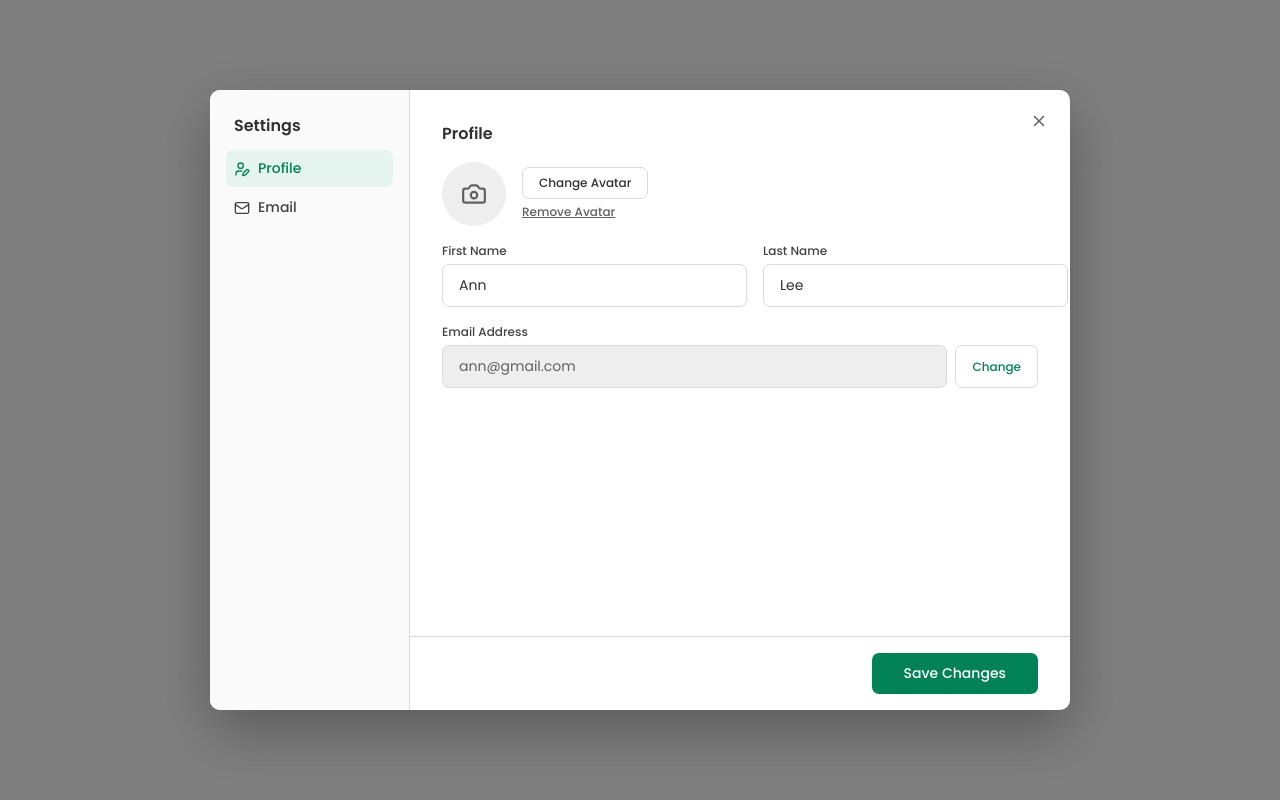
Settings — changing the login email › keeps the login email read-only and opens the change dialog from its button
Check: the field labelled "Email Address" holds "ann@gmail.com", box [442,345,948,388]
Click the button "Change": (997, 366) [956,345,1038,388]
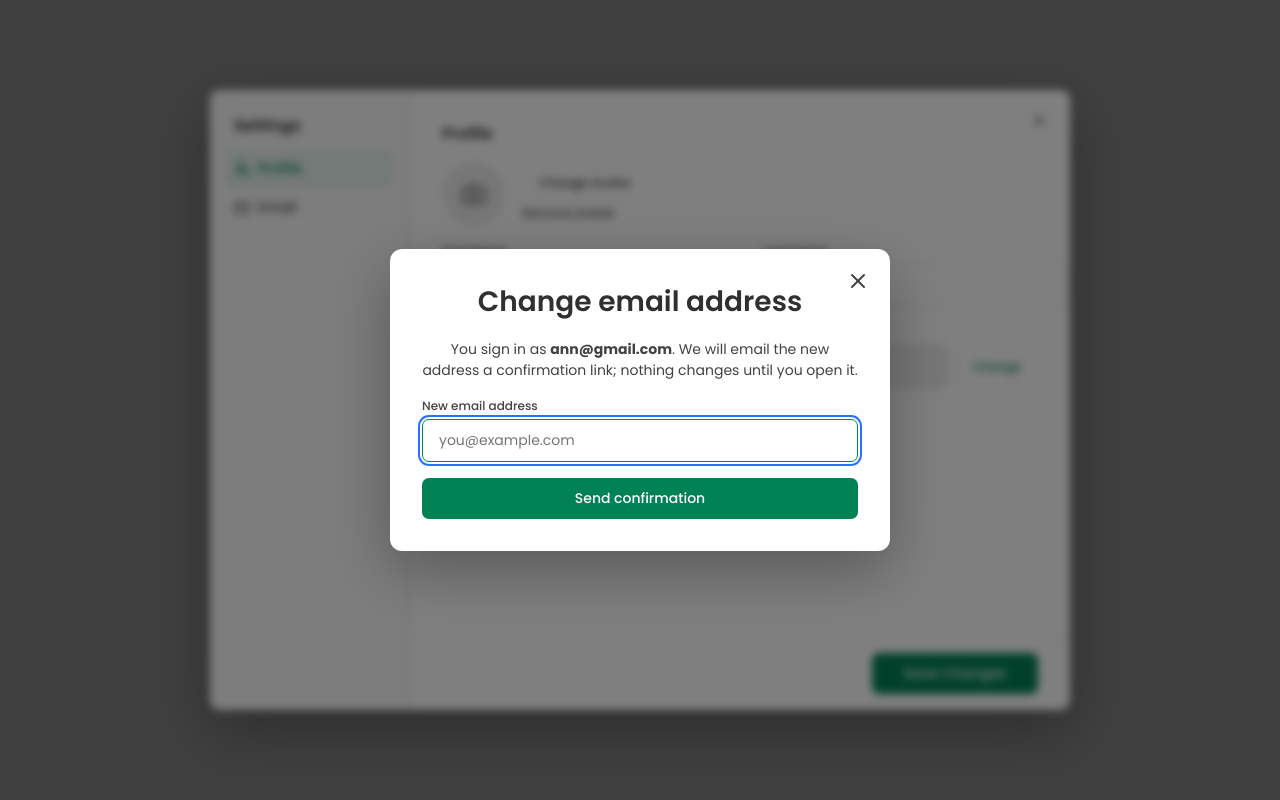
Check: the dialog "Change email address" shows "You sign in as ann@gmail.com", box [390,249,890,551]
